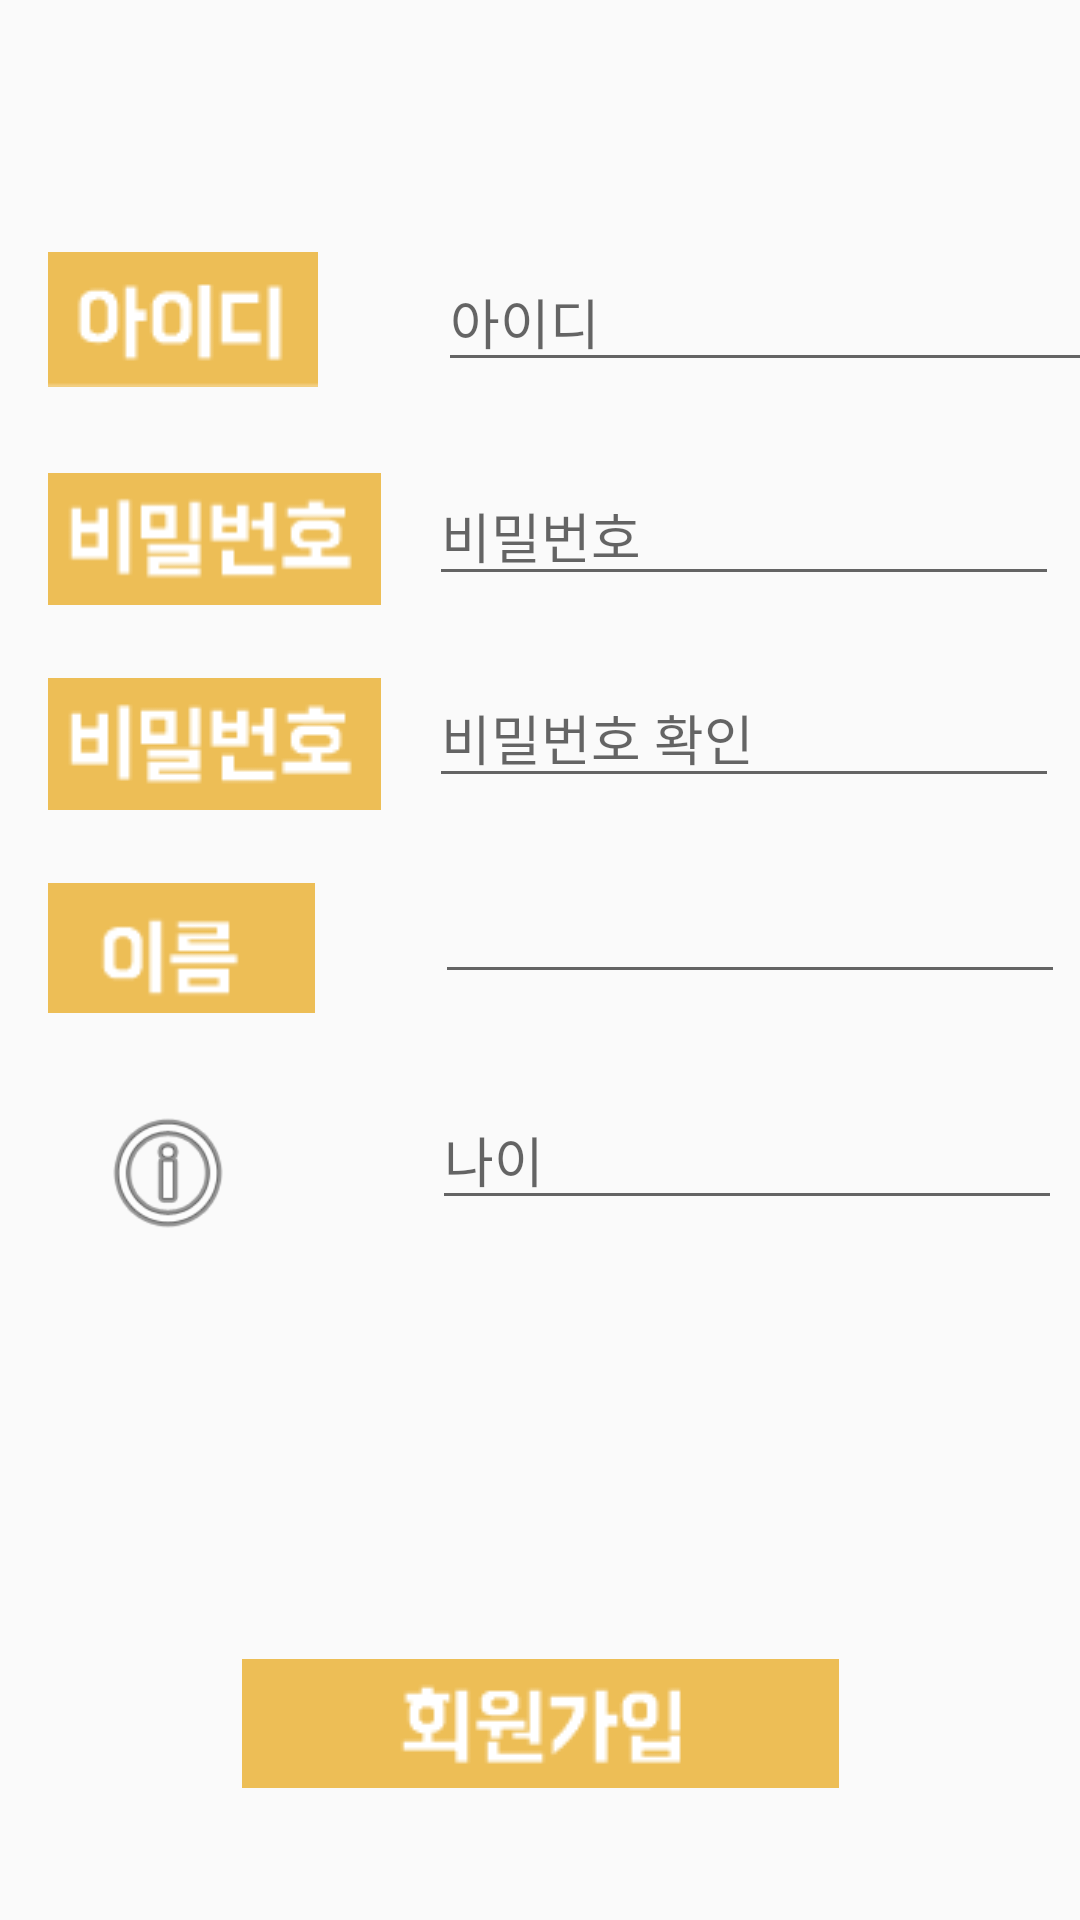

Where to tap for icons on this 1080w x 1920h app screen, as (x,y):
info details: (168,1173)
